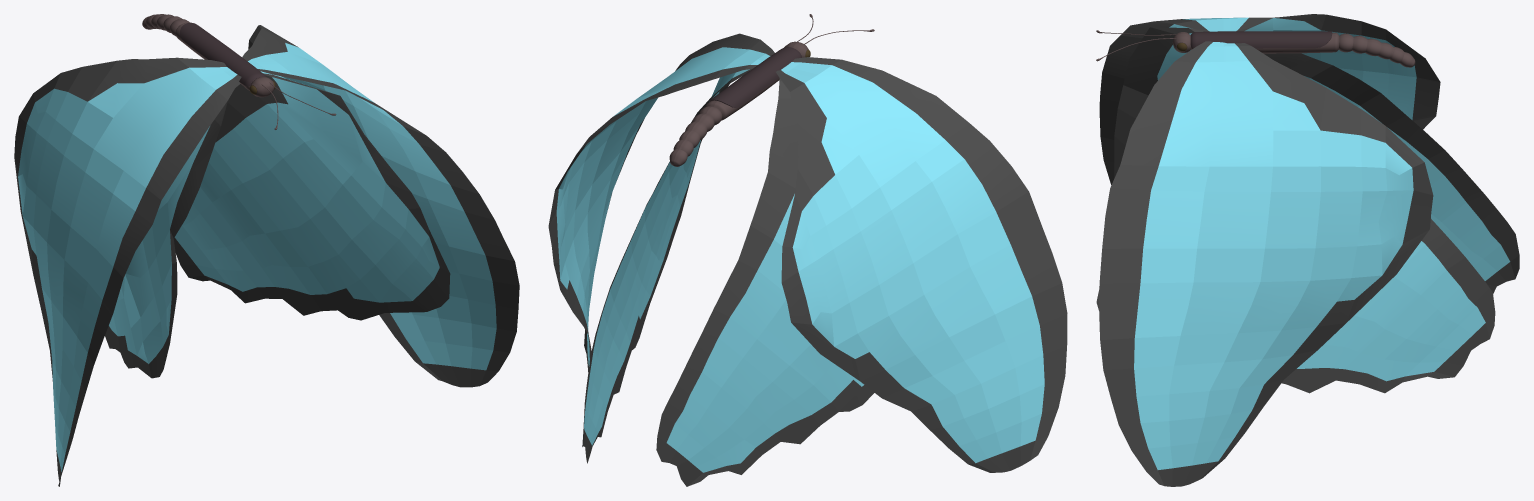
Rendered from butterfly.fbx.
3 views of the same model, side by side, from view 1: azimuth 30°, elevation 25°; view 2: azimuth 150°, elevation 25°; view 3: azimuth 270°, elevation 25° (orthographic). The views are drawn at different scales.
Visible parts, largest first — view 1: L_wing2, R_wing1, L_wing1, R_wing2, back, body1; view 2: R_wing1, R_wing2, L_wing1, L_wing2, body1, back; view 3: L_wing1, L_wing2, R_wing2, R_wing1, body1, back.
Part boxes in pixels (box(x1,y1,x2,y2)): L_wing2: box(174, 71, 450, 320); R_wing1: box(14, 57, 241, 486); L_wing1: box(242, 25, 519, 387); R_wing2: box(105, 82, 240, 378); back: box(180, 22, 266, 86); body1: box(142, 14, 336, 129); R_wing1: box(776, 57, 1067, 472); R_wing2: box(656, 68, 875, 486); L_wing1: box(548, 33, 774, 371); L_wing2: box(582, 69, 751, 463); body1: box(669, 14, 874, 166); back: box(709, 47, 801, 107); L_wing1: box(1099, 41, 1433, 486); L_wing2: box(1096, 219, 1495, 393); R_wing2: box(1114, 27, 1519, 293); R_wing1: box(1099, 14, 1440, 184); body1: box(1096, 30, 1415, 67); back: box(1190, 31, 1332, 48).
Bounding box in the file's own units: 96.72 × 79.92 × 74.43.
